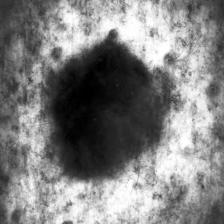Benign Marking or Mole: (53, 38, 171, 172)
